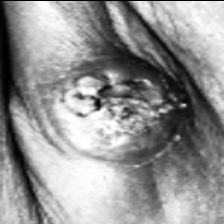Potentially Malignant Skin Tumors: (58, 52, 186, 164)
